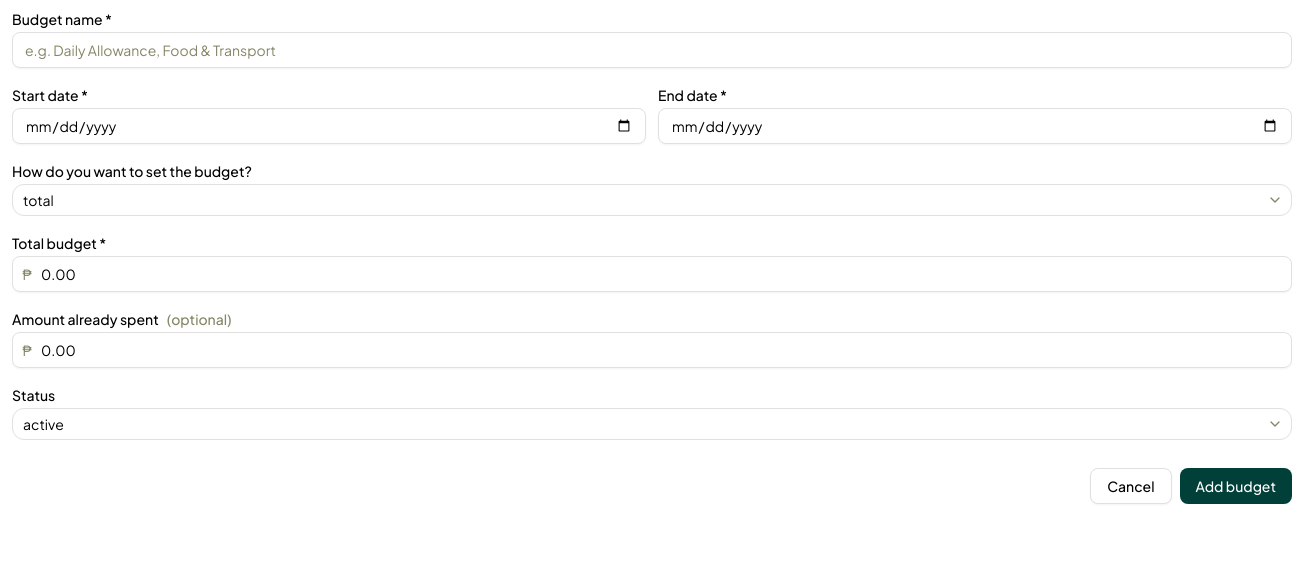
Test: AllowanceBudgetForm › shows an error when name is empty
This screenshot has width=1304, height=565.
Click the button "Add budget" at (1236, 486), box [1180, 468, 1292, 504]
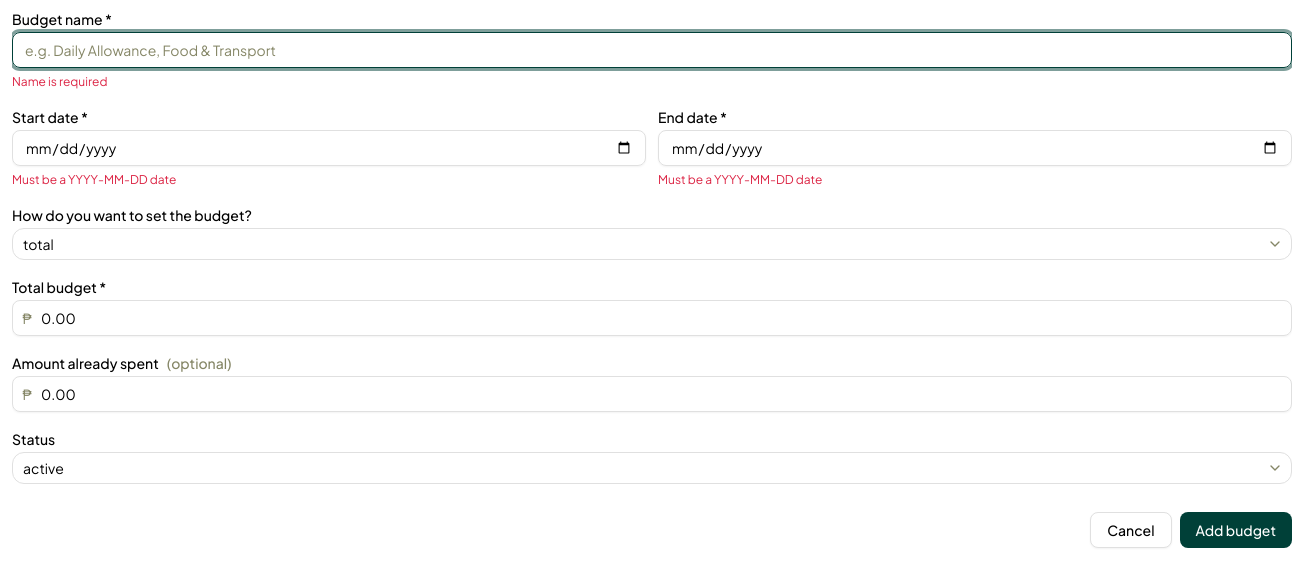
Now the text "Name is required" is shown, box [12, 74, 107, 89]
